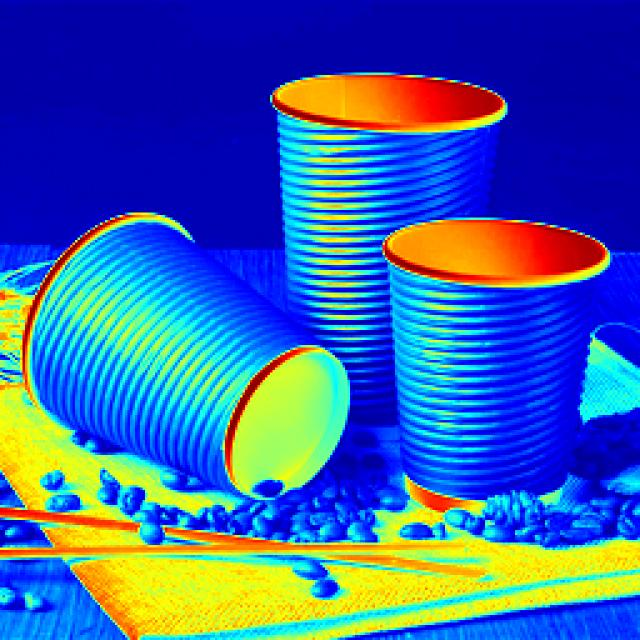Paper Cups: (38, 216, 316, 538), (387, 218, 601, 517), (271, 63, 461, 250)
